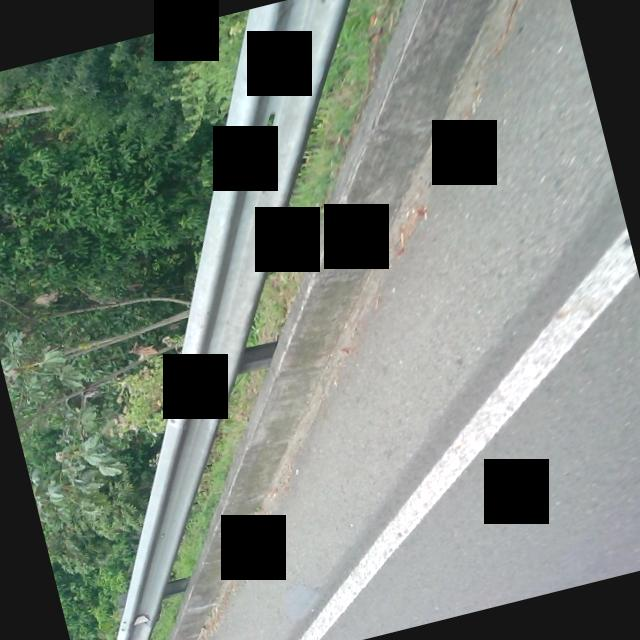DITCH: (7, 0, 640, 640), (19, 0, 640, 640), (56, 0, 640, 640)
